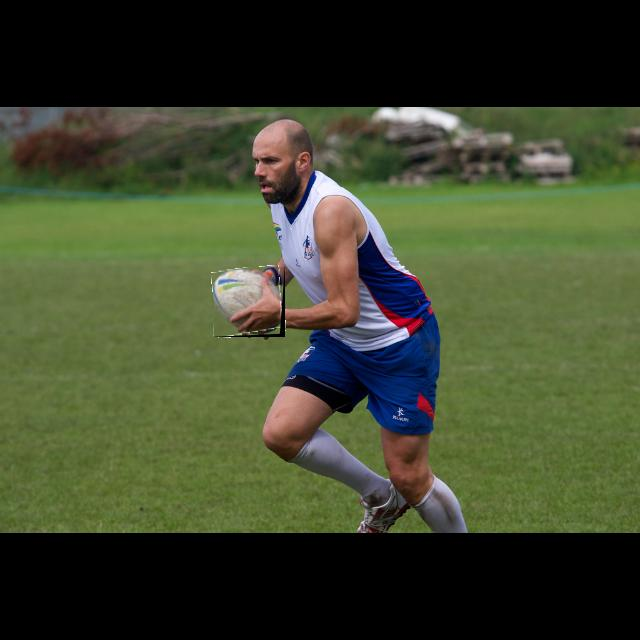Football: (213, 267, 285, 337)
